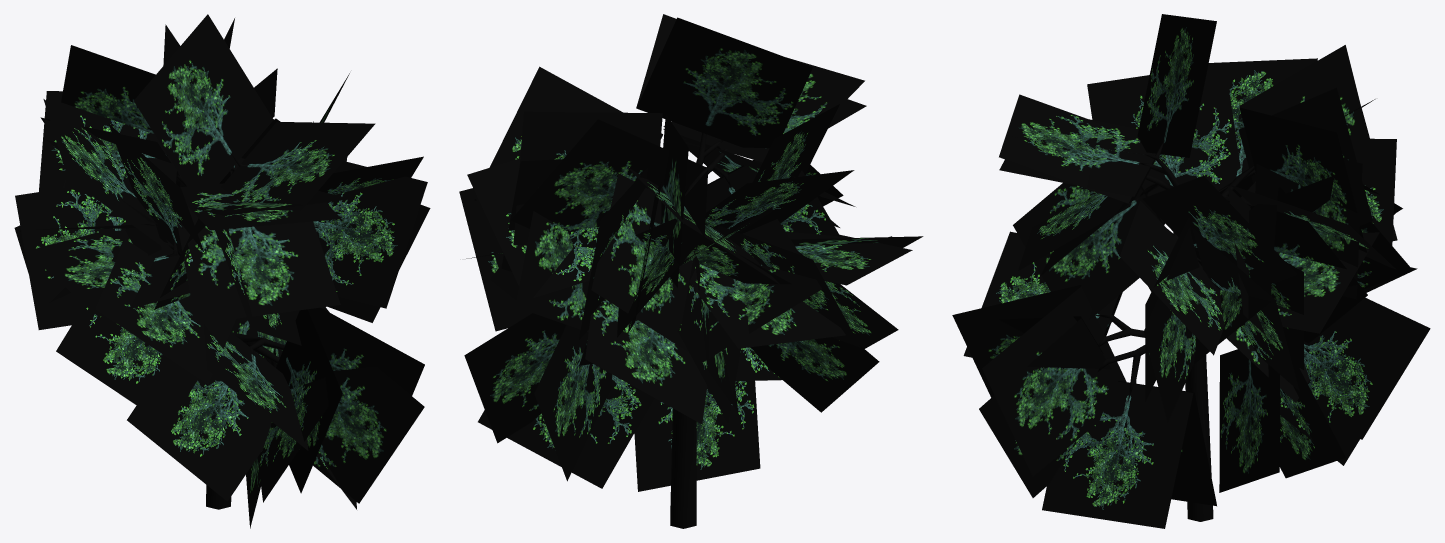
The model's file is tree75.glb.
The picture shows the model from 3 angles, left to right: view 1: azimuth 30°, elevation 25°; view 2: azimuth 150°, elevation 25°; view 3: azimuth 270°, elevation 25°; orthographic projection. The views are drawn at different scales.
Size of the model in its own units: 5.56 by 7 by 6.15.
2 materials, 1 textured.
